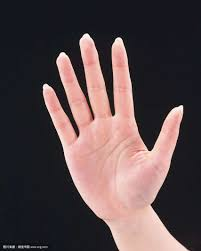palm: (33, 31, 185, 225)
